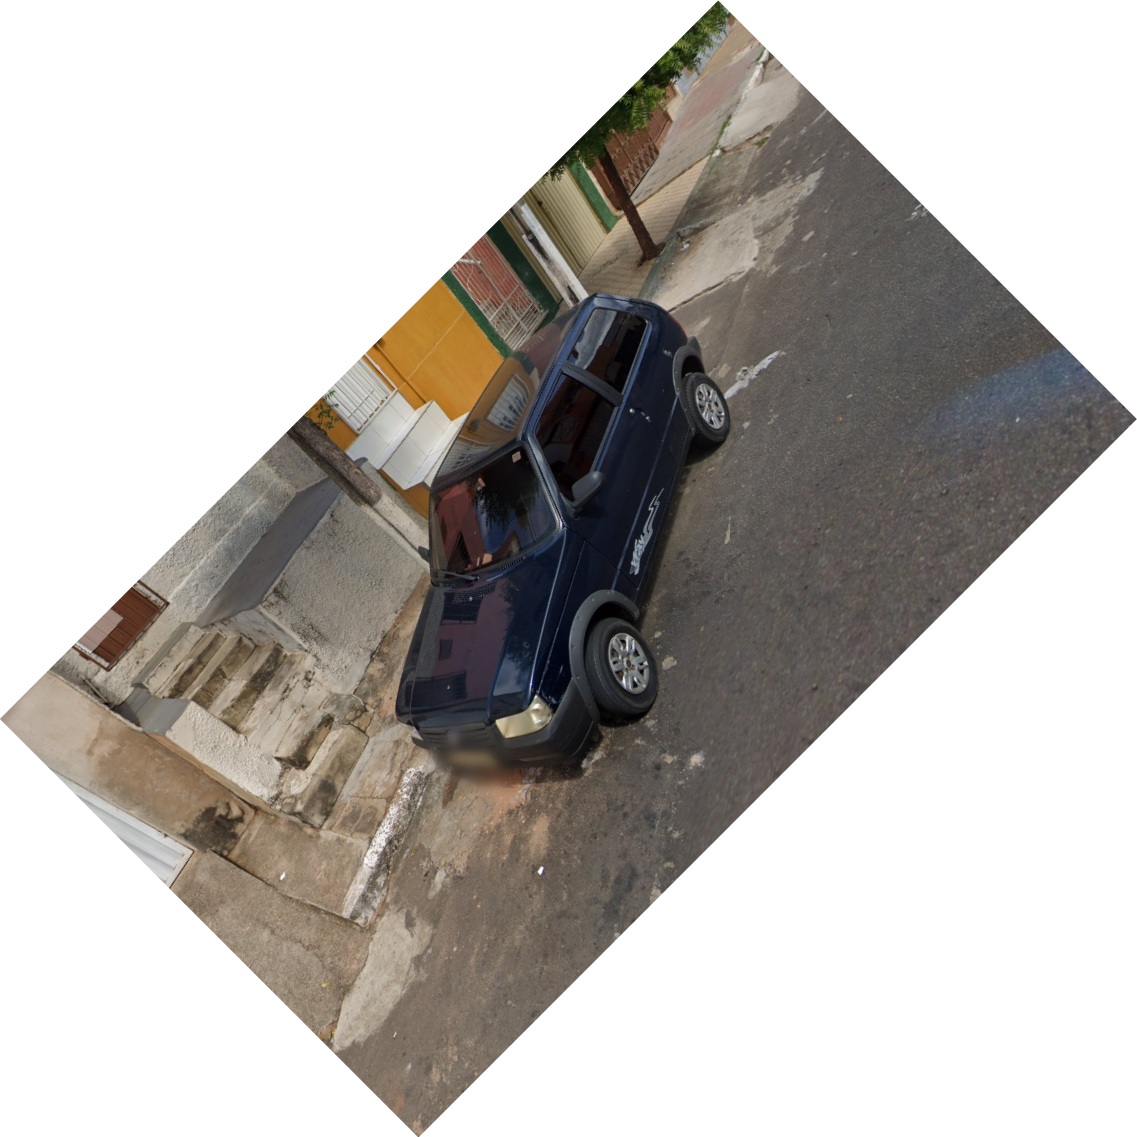car: (376, 286, 741, 793)
